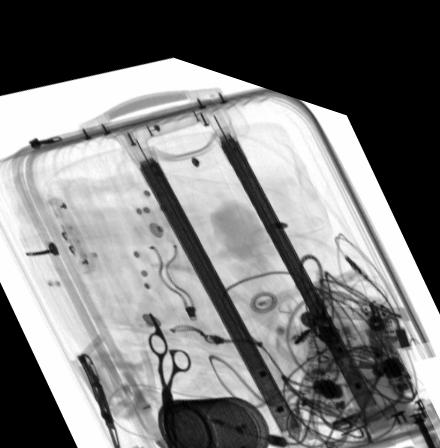Knife: (75, 344, 123, 448)
Powerbank: (125, 440, 209, 448)
Scissors: (146, 299, 193, 448)
